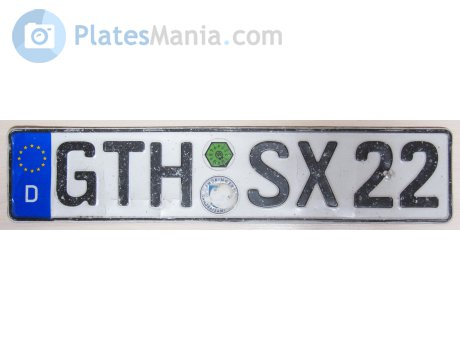License Plates: (52, 126, 441, 214)
